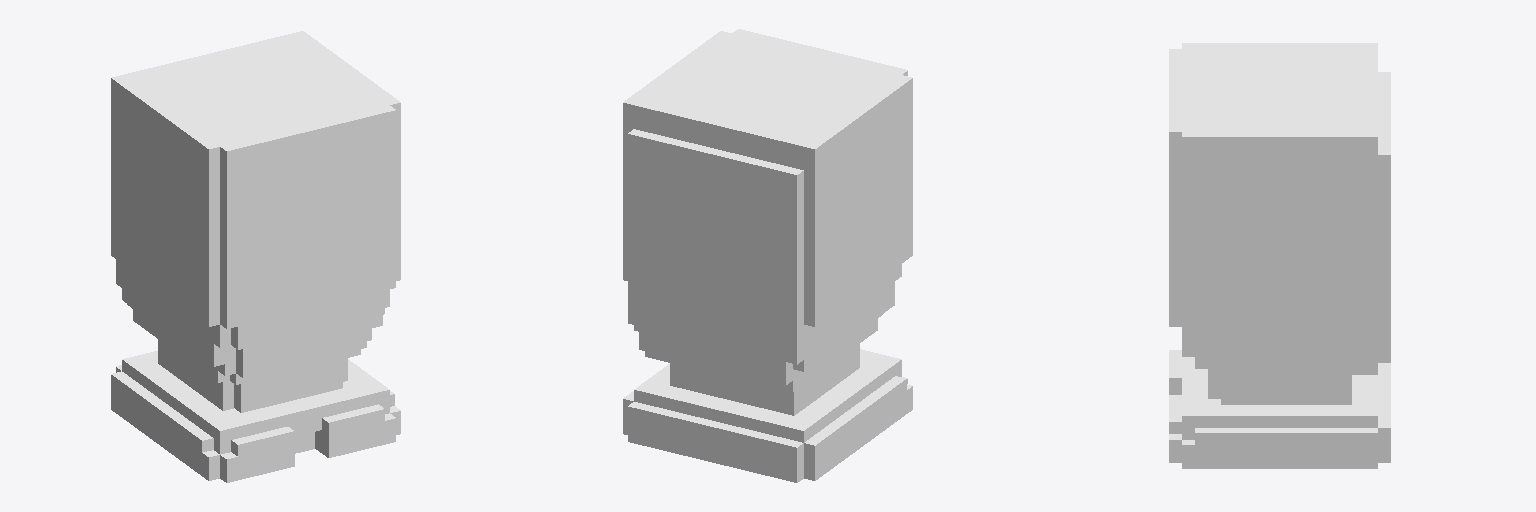
File: MeleeRogatiy-5.obj
3 renders of one model, left to right at view 1: azimuth 30°, elevation 25°; view 2: azimuth 150°, elevation 25°; view 3: azimuth 270°, elevation 25°, orthographic.
Visible parts, largest first — view 1: object 1; view 2: object 1; view 3: object 1.
Part boxes in pixels (x1,y1,x2,y2): object 1: (111, 31, 400, 482); object 1: (623, 29, 912, 482); object 1: (1169, 43, 1390, 468).
Bounding box in the file's own units: 1.7 × 2.8 × 1.7.